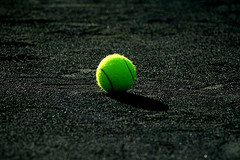tennis ball: (95, 52, 139, 94)
